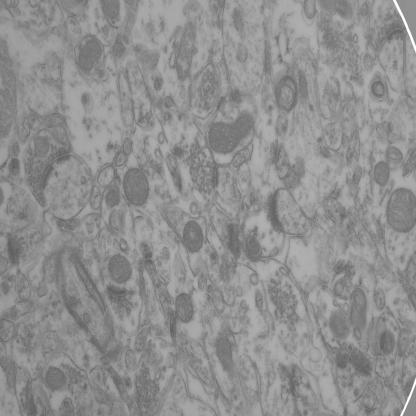mitochondria: (207, 109, 258, 159), (385, 184, 416, 234), (121, 165, 151, 210), (76, 35, 104, 76), (214, 330, 234, 375), (326, 309, 353, 342), (183, 216, 205, 255), (108, 253, 134, 285), (173, 290, 196, 325), (43, 364, 69, 393), (373, 158, 391, 189), (244, 232, 262, 262), (105, 184, 121, 208)
